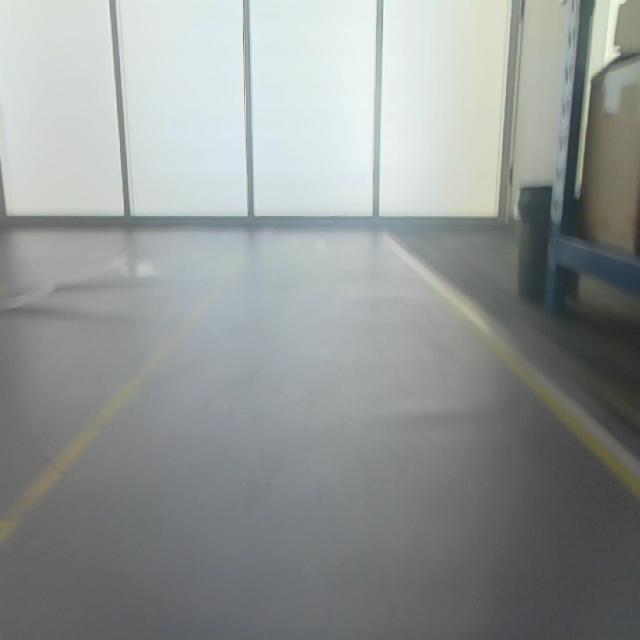left_lane: (1, 279, 223, 543)
right_lane: (384, 234, 640, 498)
